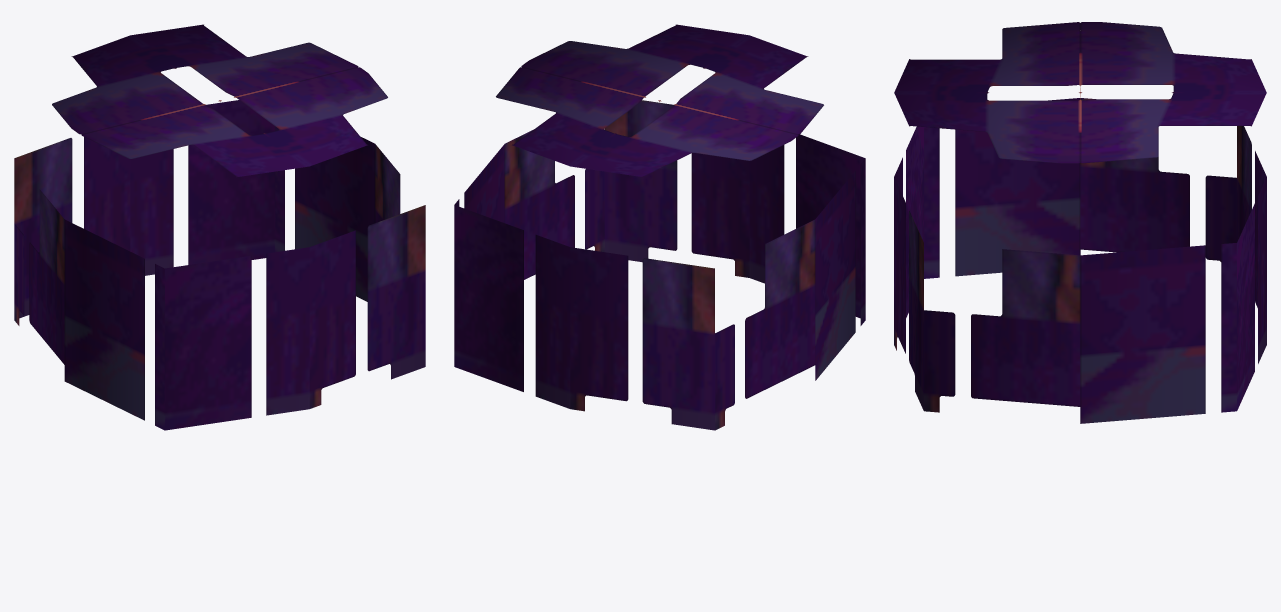
The picture shows the model from 3 angles, left to right: view 1: azimuth 30°, elevation 25°; view 2: azimuth 150°, elevation 25°; view 3: azimuth 270°, elevation 25°; orthographic projection. The views are drawn at different scales.
Visible parts, largest first — view 1: T1L3M002_16; view 2: T1L3M002_16; view 3: T1L3M002_16.
Part boxes in pixels (box(x1,y1,x2,y2)): T1L3M002_16: box(14, 24, 425, 430); T1L3M002_16: box(454, 24, 865, 430); T1L3M002_16: box(894, 22, 1266, 423).
Size of the model in its own units: 1.77 by 2.24 by 1.77.
